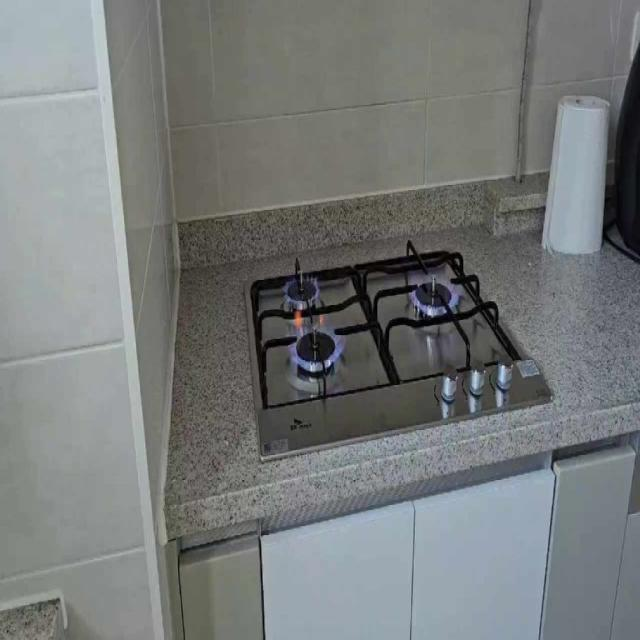knob_ON: (261, 315, 389, 390), (386, 258, 486, 332), (257, 250, 340, 320)
